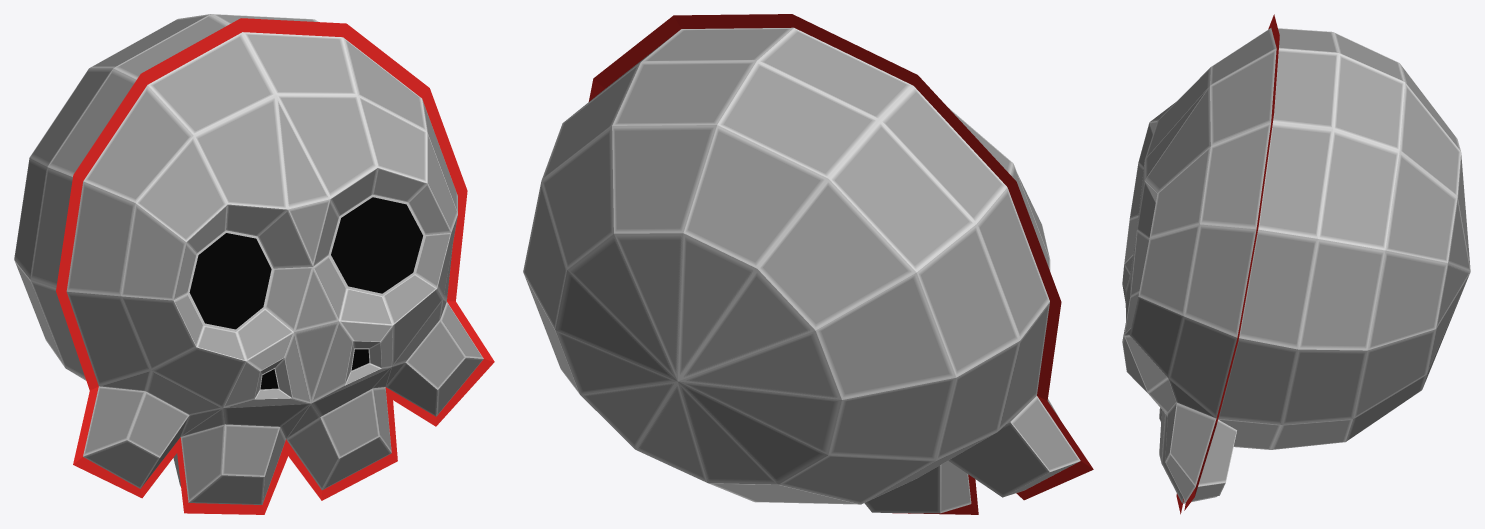
Rendered from Czaszka1.fbx.
The picture shows the model from 3 angles, left to right: view 1: azimuth 30°, elevation 25°; view 2: azimuth 150°, elevation 25°; view 3: azimuth 270°, elevation 25°; orthographic projection. The views are drawn at different scales.
Parts seen in each view (by area): view 1: Icosphere; view 2: Icosphere; view 3: Icosphere.
Part boxes in pixels (x1=…): Icosphere: x1=14, y1=14, x2=494, y2=514; Icosphere: x1=523, y1=14, x2=1093, y2=514; Icosphere: x1=1122, y1=14, x2=1470, y2=514.
Bounding box in the file's own units: 257 × 263 × 186.
